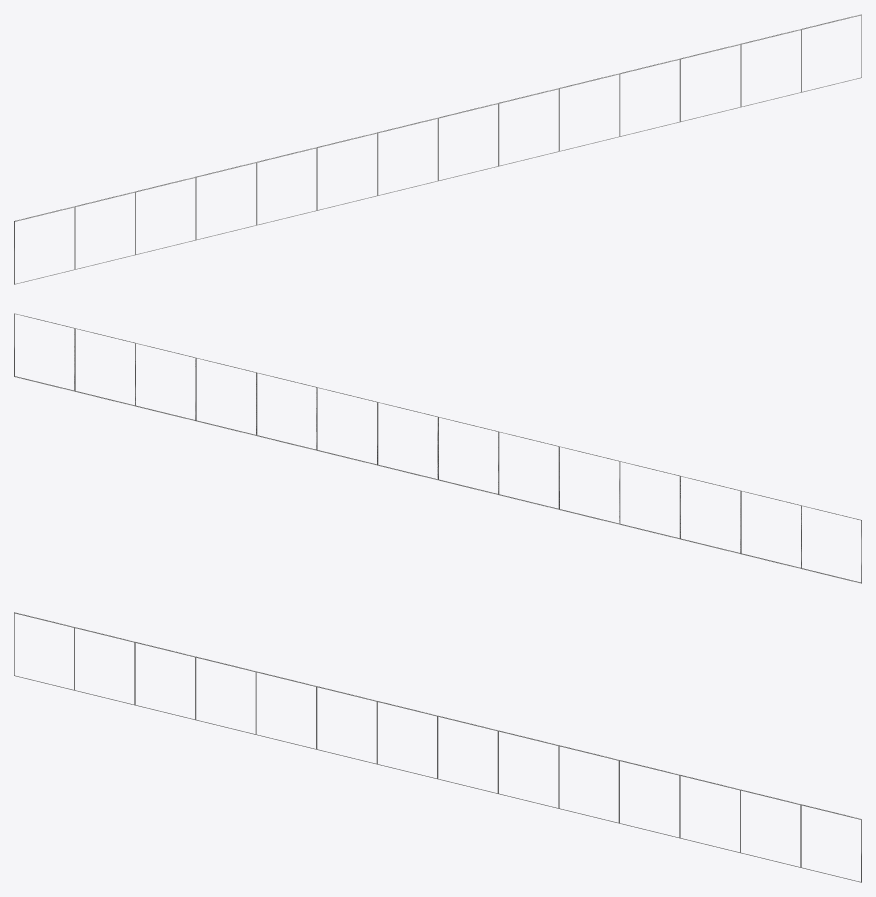
The model's file is Floor_A_1.obj.
The picture shows the model from 3 angles, top to bottom: view 1: azimuth 30°, elevation 25°; view 2: azimuth 150°, elevation 25°; view 3: azimuth 330°, elevation 25°; orthographic projection.
Bounding box in the file's own units: 8.53 × 0.6096 × 0.00762.
